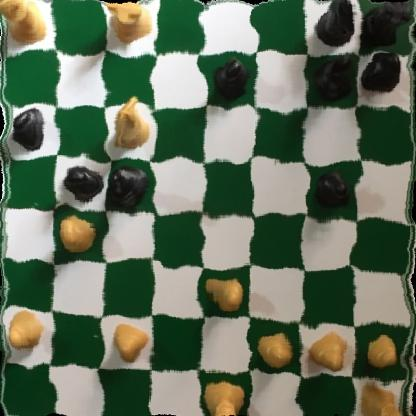black-bishop: (307, 50, 353, 101)
black-king: (106, 164, 148, 211)
black-knight: (316, 0, 360, 48)
black-pawn: (314, 167, 355, 213), (208, 58, 251, 101), (61, 162, 103, 204), (362, 52, 402, 96), (7, 108, 50, 148)
black-rook: (359, 0, 409, 51)
white-king: (201, 374, 249, 416)
white-knight: (109, 93, 150, 152)
white-pawn: (59, 211, 104, 259), (2, 310, 46, 353), (305, 332, 350, 374), (106, 322, 149, 365), (254, 328, 296, 370), (357, 336, 404, 373), (207, 270, 245, 313)
white-queen: (0, 0, 48, 46)
white-rook: (353, 375, 408, 416), (104, 0, 148, 44)
